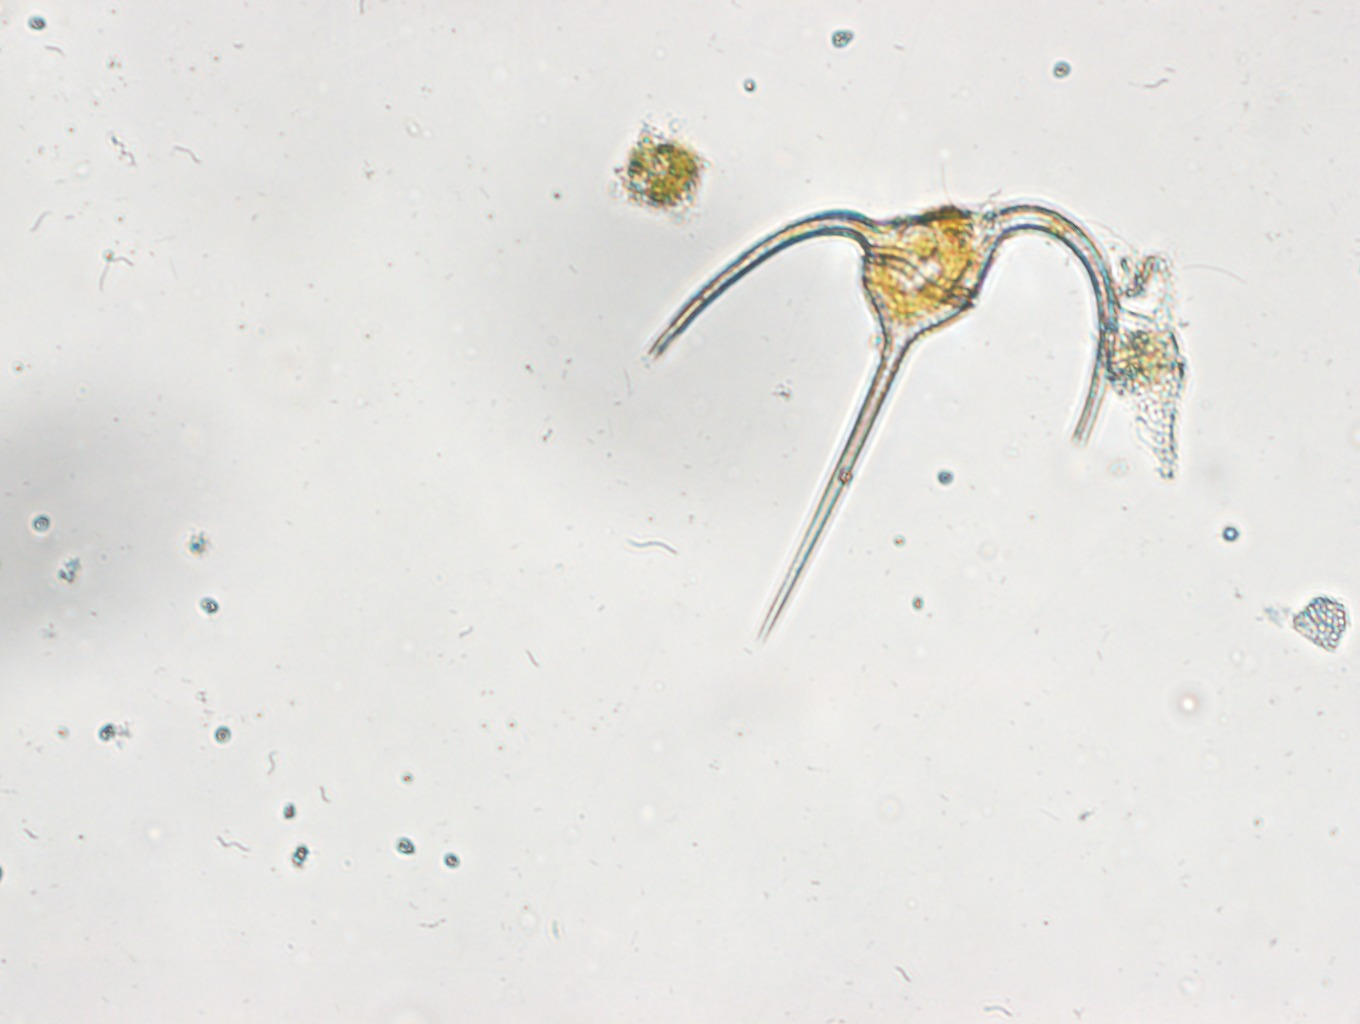ceratium trichoceros: (645, 179, 1122, 651)
